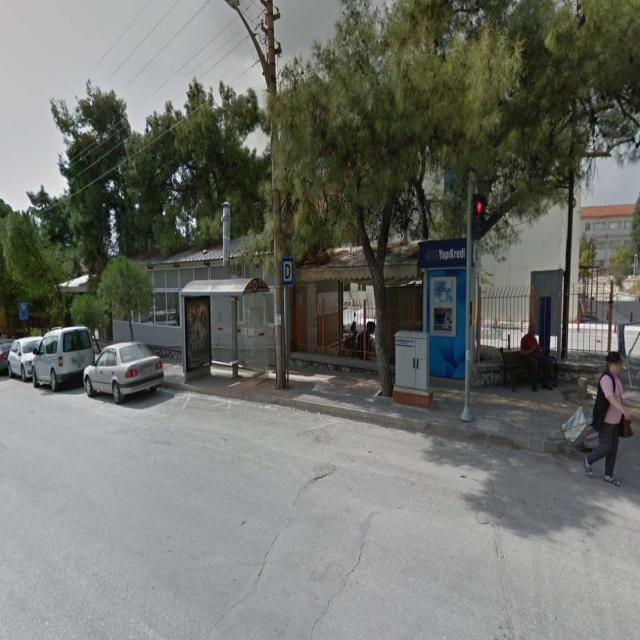durak: (282, 257, 294, 286)
